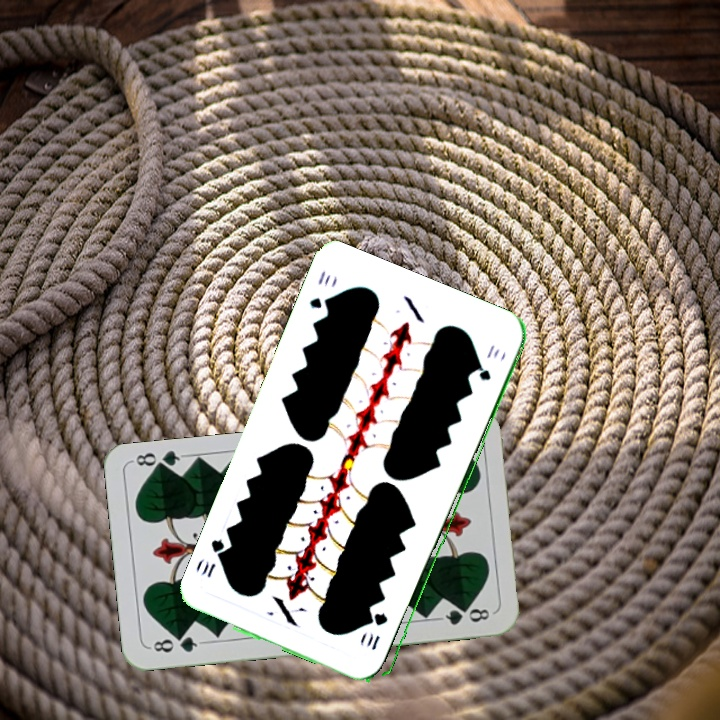G10: (305, 267, 334, 312), (367, 608, 391, 653)
G8: (146, 631, 205, 655)
